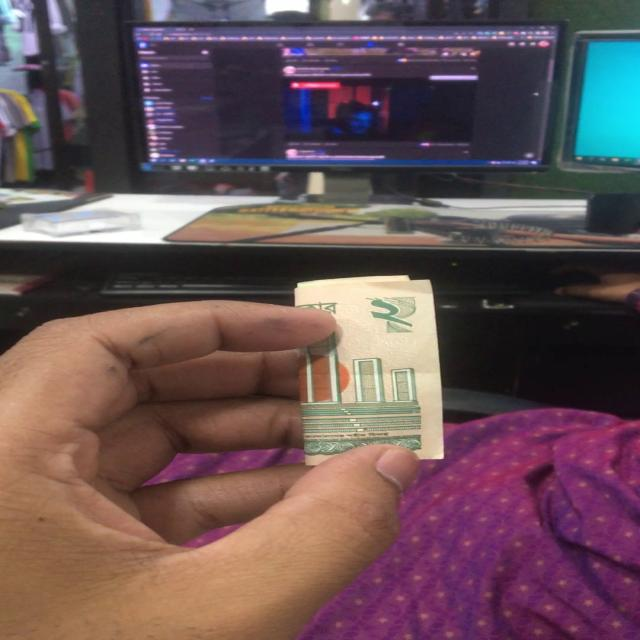Taka: (290, 276, 452, 468)
